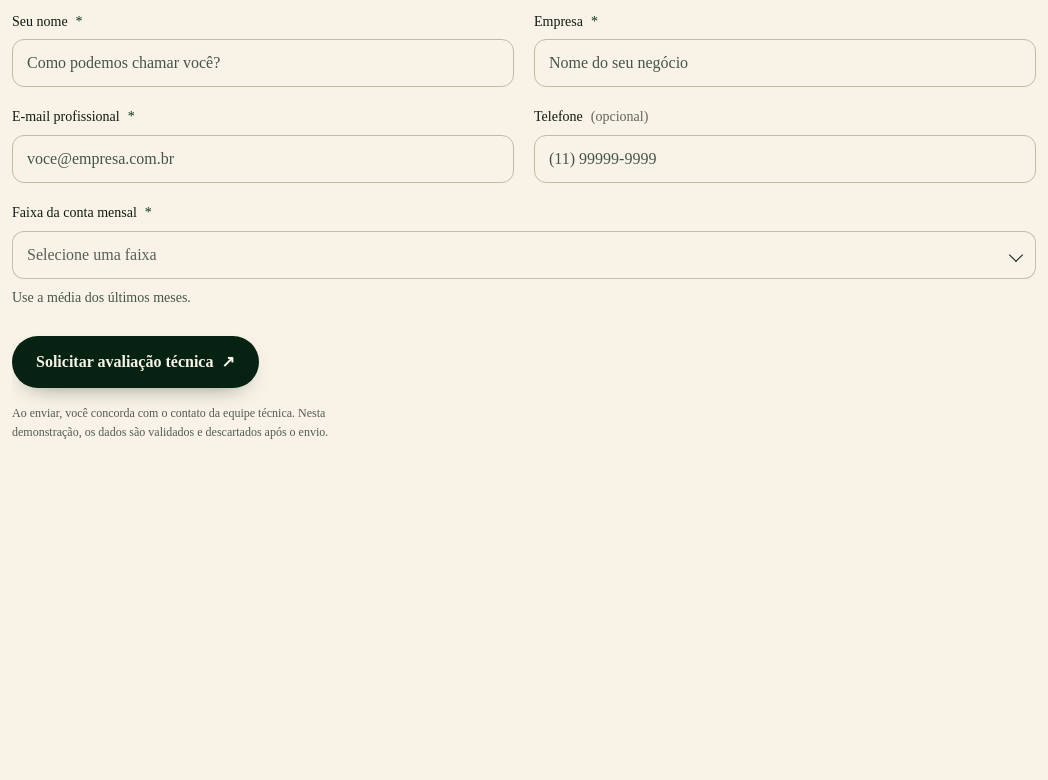
LeadForm › validates on the client, preserves input and focuses the first error
Type "A" into the field labelled "Seu nome *" at (263, 63), box x1=12 y1=39 x2=514 y2=87
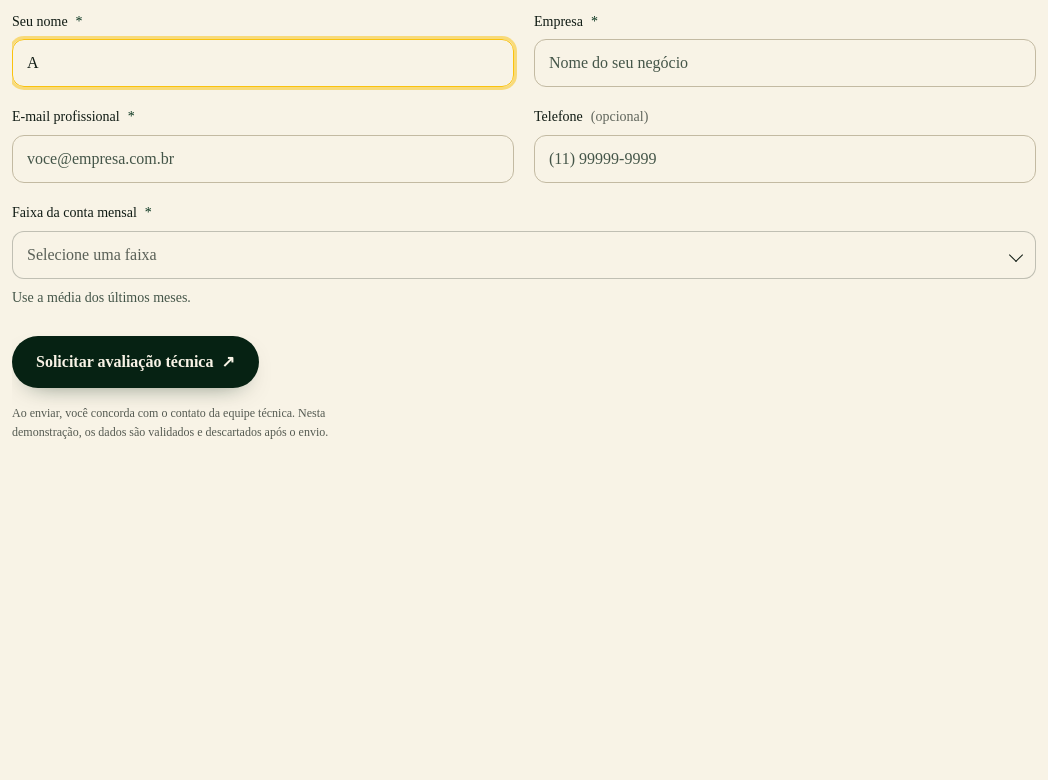
Click the button "Solicitar avaliação técnica ↗" at (135, 362), box x1=12 y1=336 x2=259 y2=388
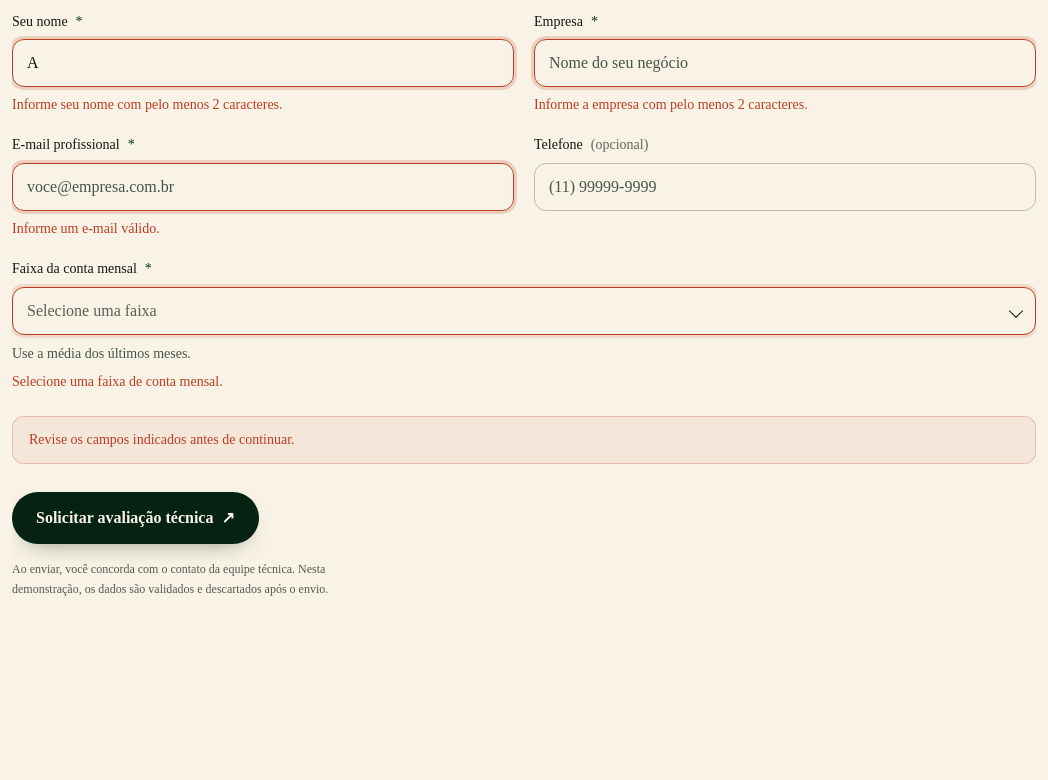
Result: the text "Informe seu nome com pelo menos 2 caracteres." is shown at x1=12 y1=97 x2=283 y2=112
Result: the text "Revise os campos indicados antes de continuar." is shown at x1=29 y1=432 x2=295 y2=446
